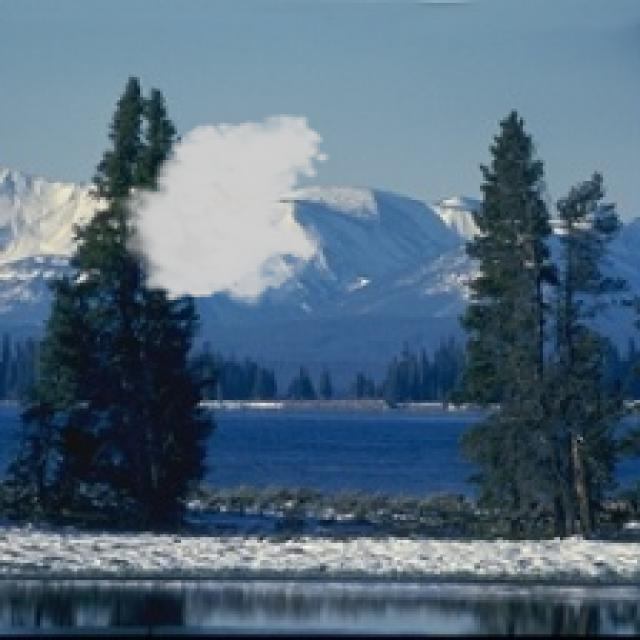Smoke: (111, 112, 332, 314)
